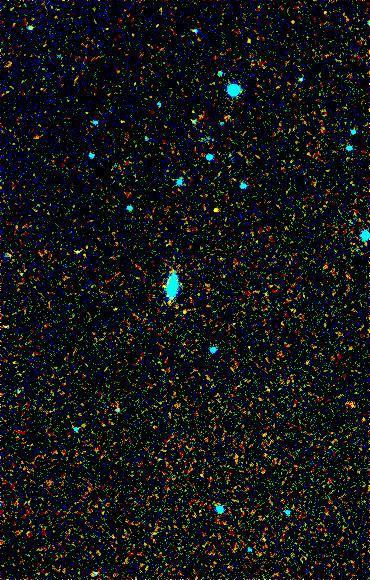star: (200, 195, 230, 225)
